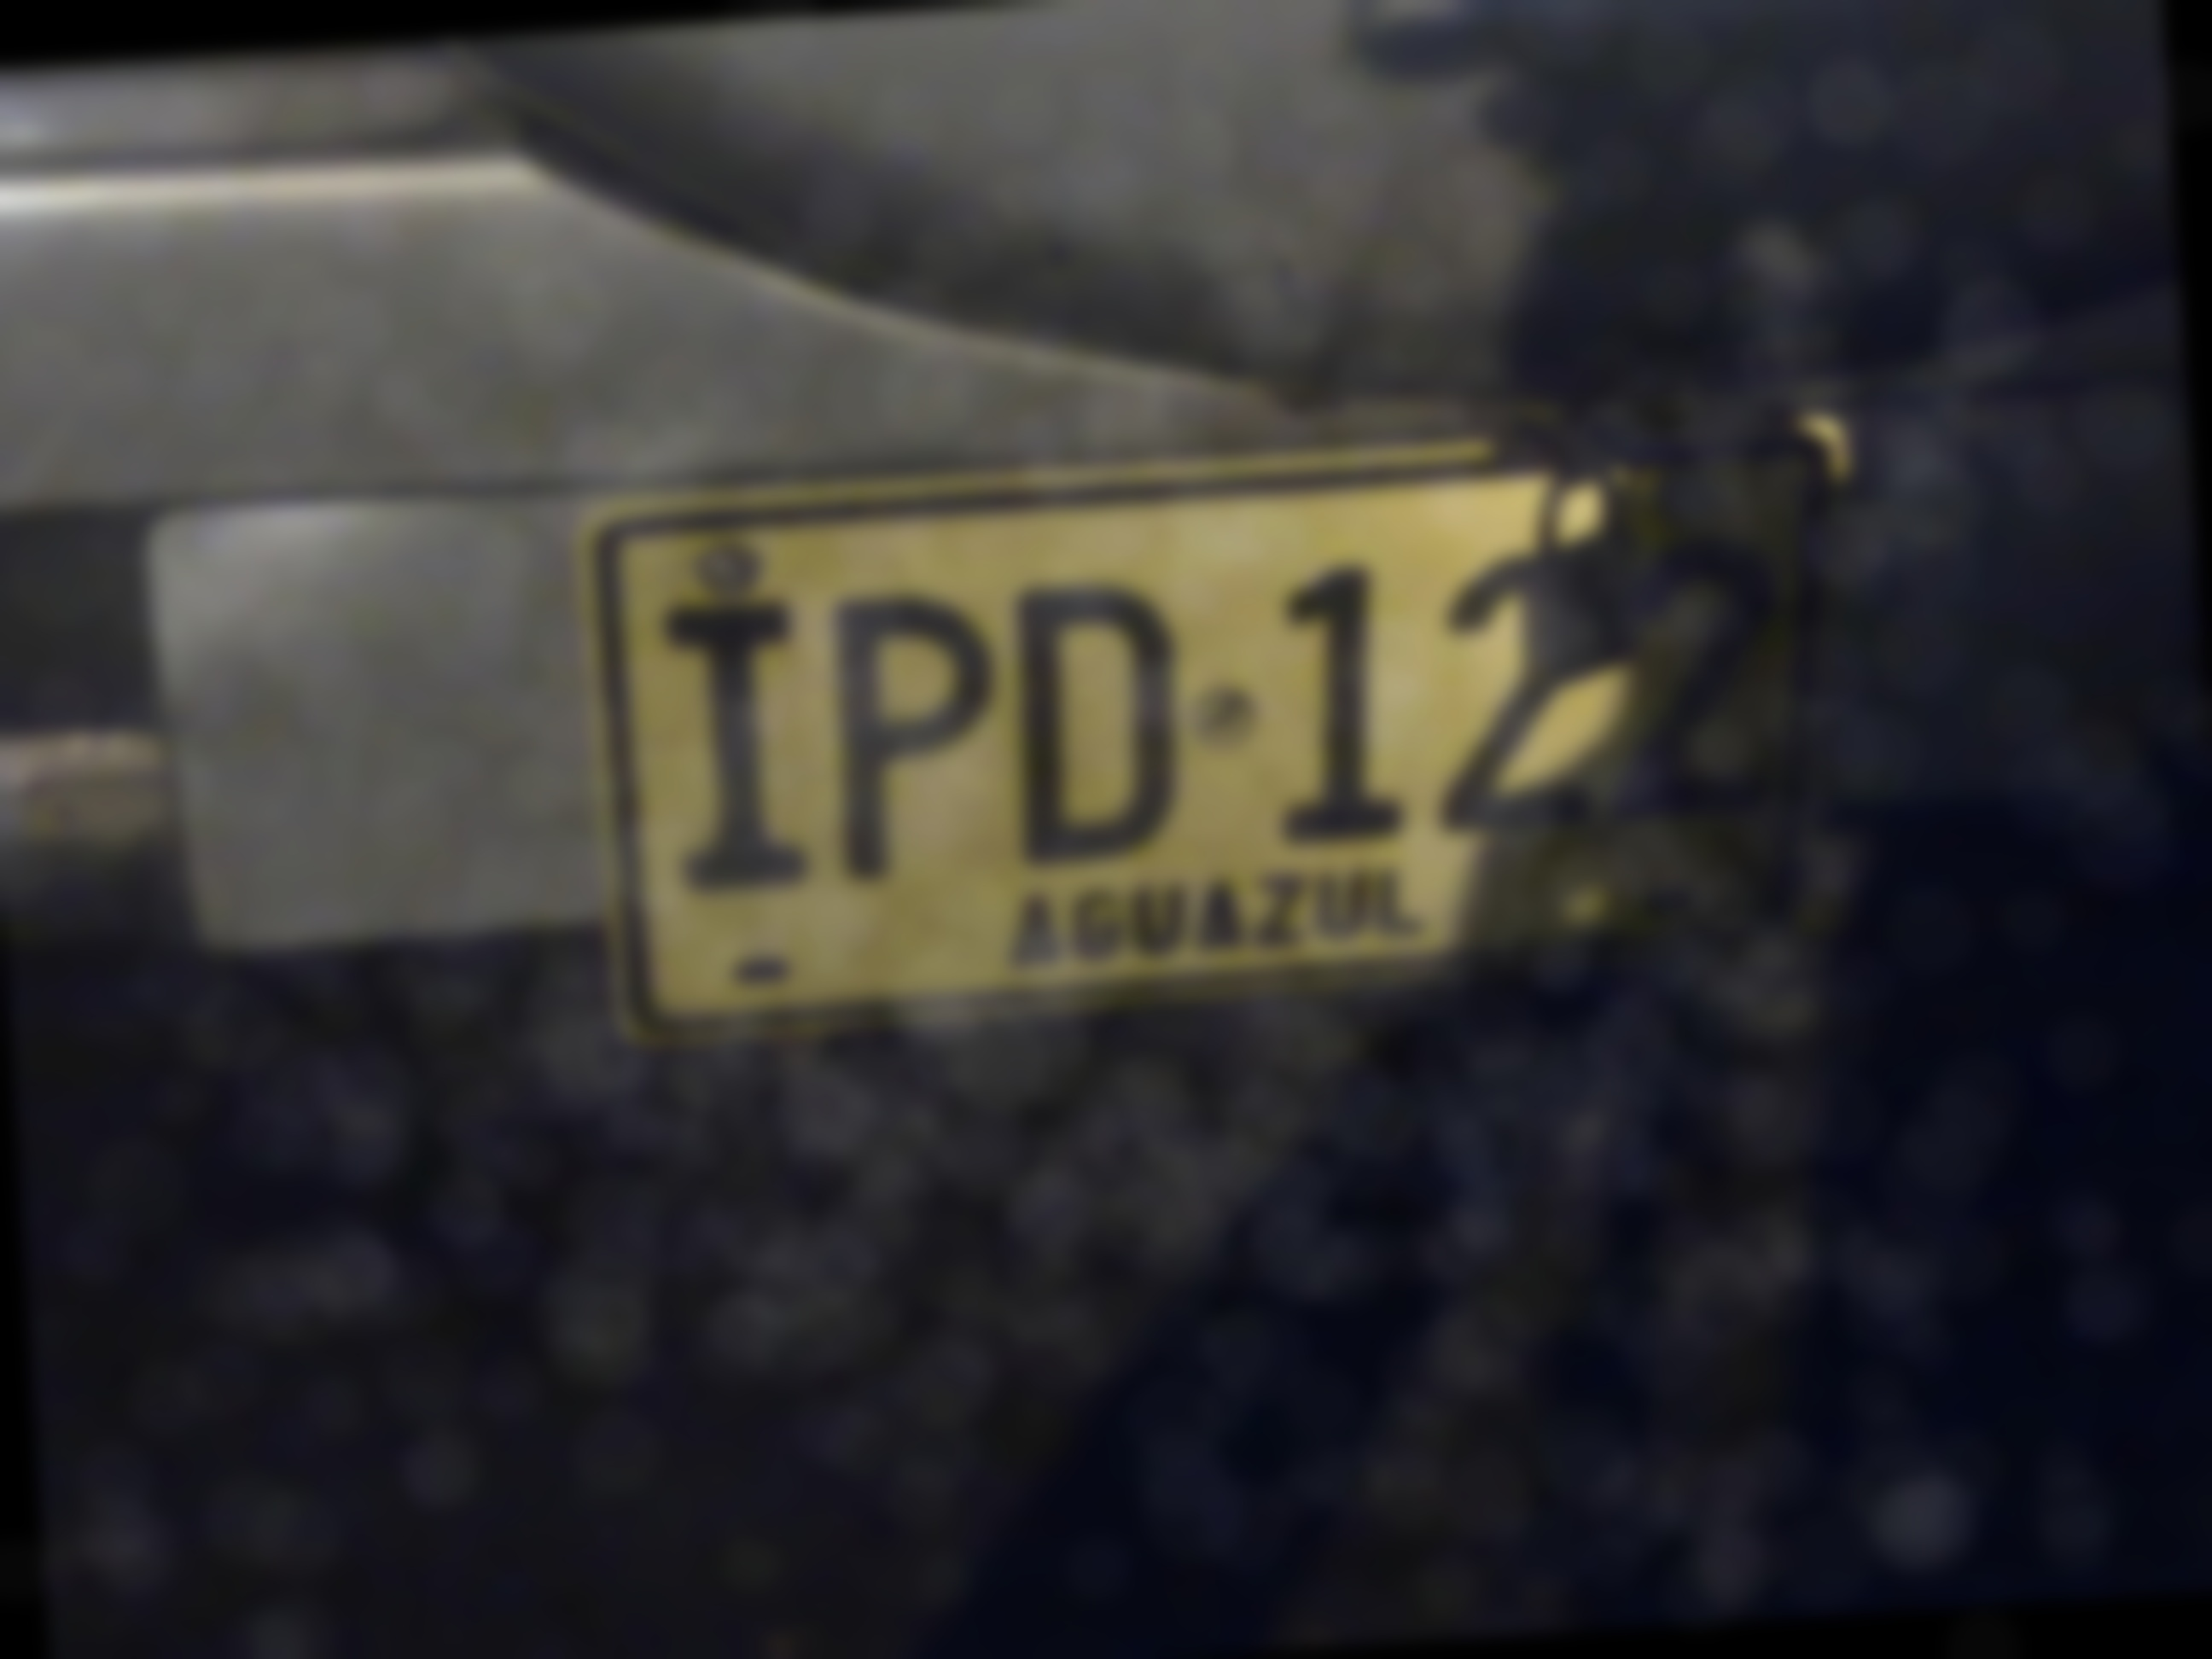placas: (564, 404, 1889, 1060)
